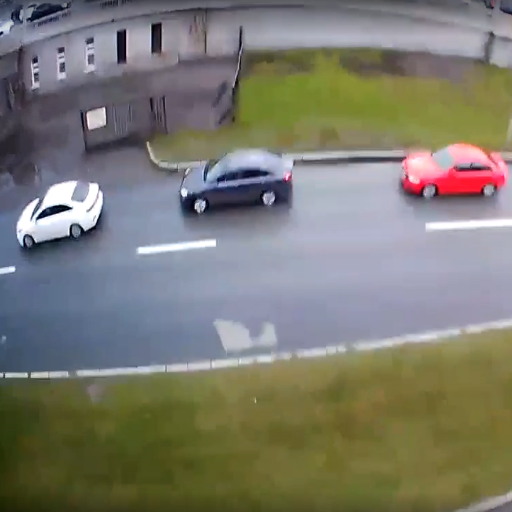Car: (178, 146, 293, 212), (403, 142, 506, 201), (11, 179, 105, 243)
